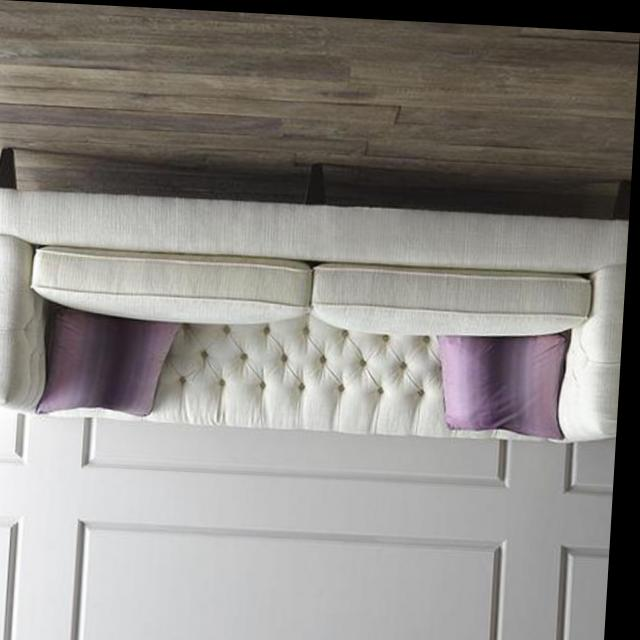Sofa: (0, 151, 633, 440)
